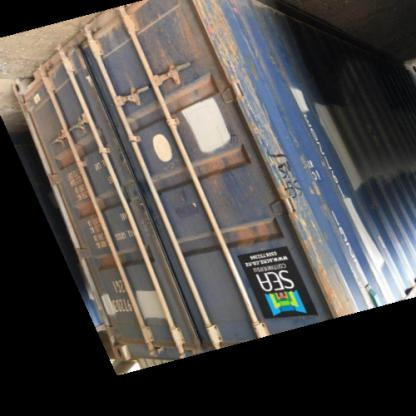Damage: (204, 15, 262, 126), (264, 150, 310, 236), (204, 152, 252, 188), (67, 195, 110, 224), (106, 250, 138, 274)
